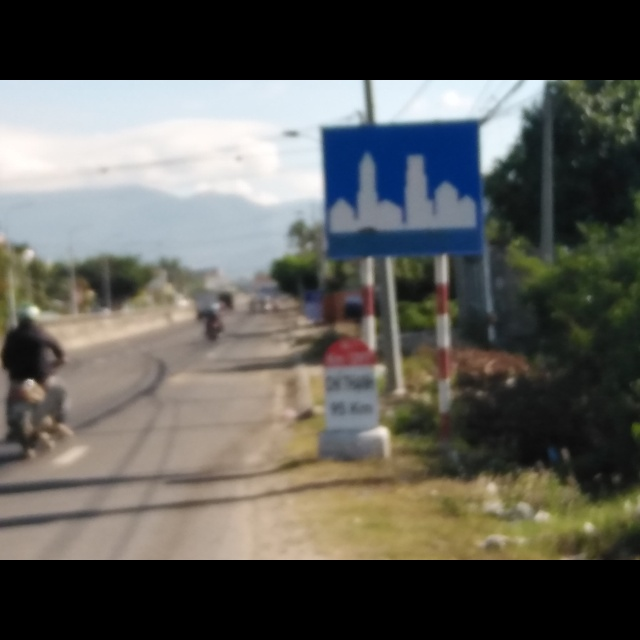Khu đông dân cư: (317, 115, 483, 263)
